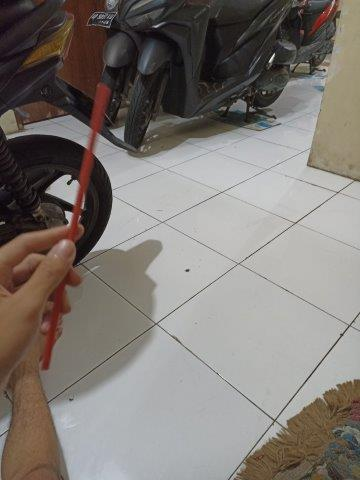sedotan: (42, 89, 109, 369)
